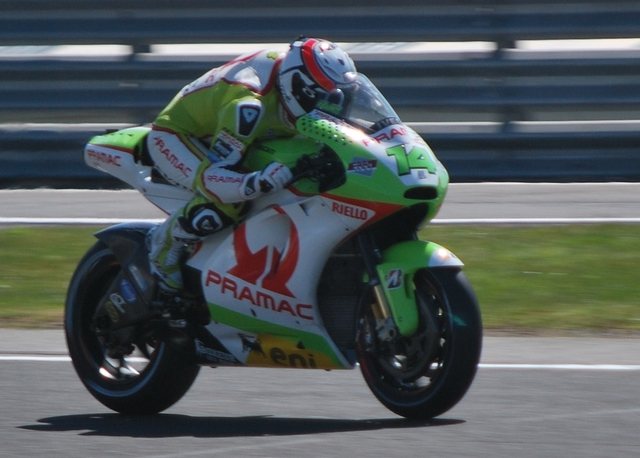helmet: (283, 34, 357, 130)
